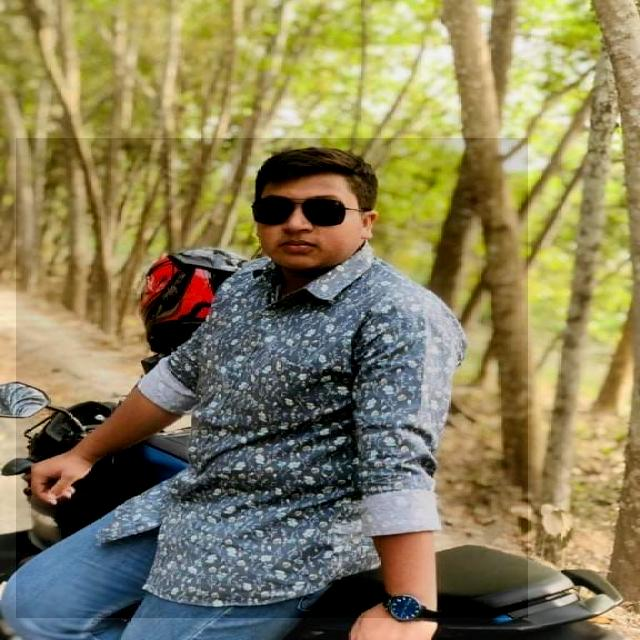Bike: (16, 138, 528, 618)
